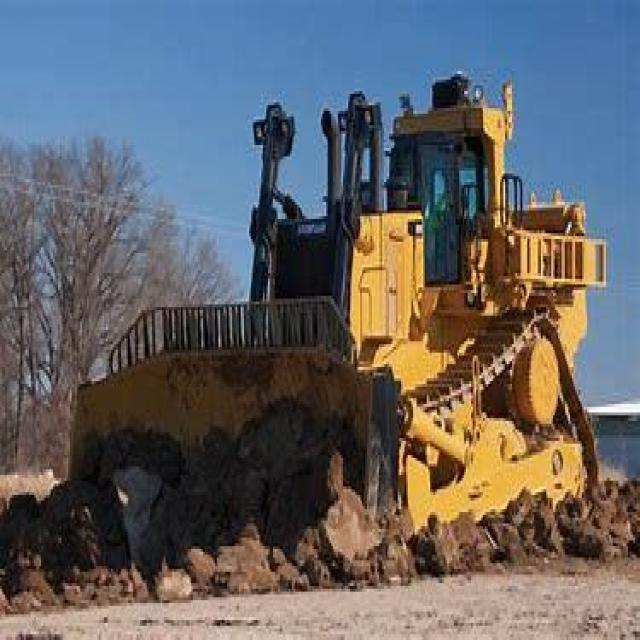buldozerpayloadergrader: (41, 57, 614, 546)
